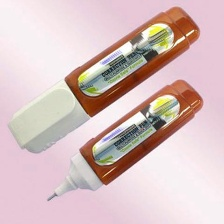correction_fluid: (5, 4, 201, 156), (43, 76, 206, 204)
